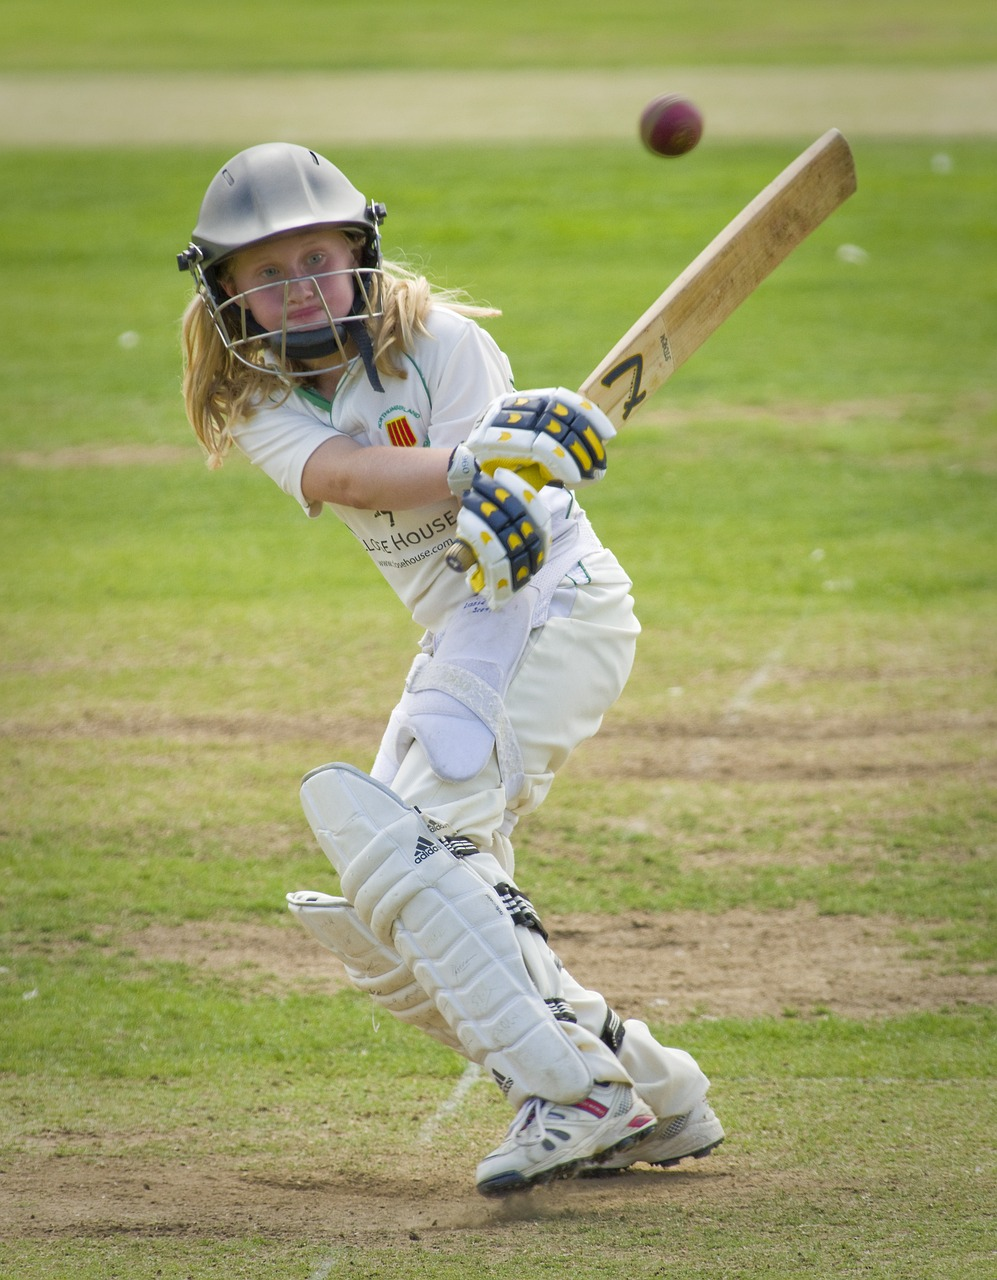bottom left: (806, 113, 858, 156)
bottom right: (837, 177, 871, 211)
top left: (560, 375, 609, 408)
